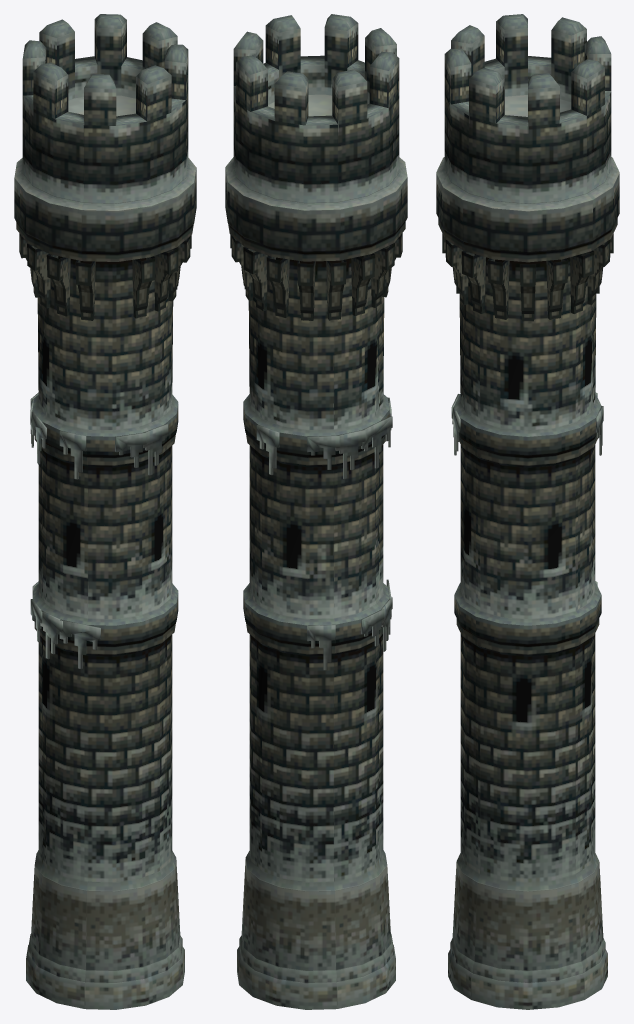
The model's file is EnvBdgMD_Castle_Raimei_A_Tower_A.FBX.
The picture shows the model from 3 angles, left to right: view 1: azimuth 30°, elevation 25°; view 2: azimuth 150°, elevation 25°; view 3: azimuth 270°, elevation 25°; orthographic projection.
Parts seen in each view (by area): view 1: EnvBdgMD_Castle_Raimei_A_Tower_A; view 2: EnvBdgMD_Castle_Raimei_A_Tower_A; view 3: EnvBdgMD_Castle_Raimei_A_Tower_A.
Boxes of the visible parts, x1,y1,x2,y2 form: EnvBdgMD_Castle_Raimei_A_Tower_A: (14,14,196,1009); EnvBdgMD_Castle_Raimei_A_Tower_A: (225,14,407,1009); EnvBdgMD_Castle_Raimei_A_Tower_A: (436,14,619,1009).
Bounding box in the file's own units: 225 × 1255 × 225.
